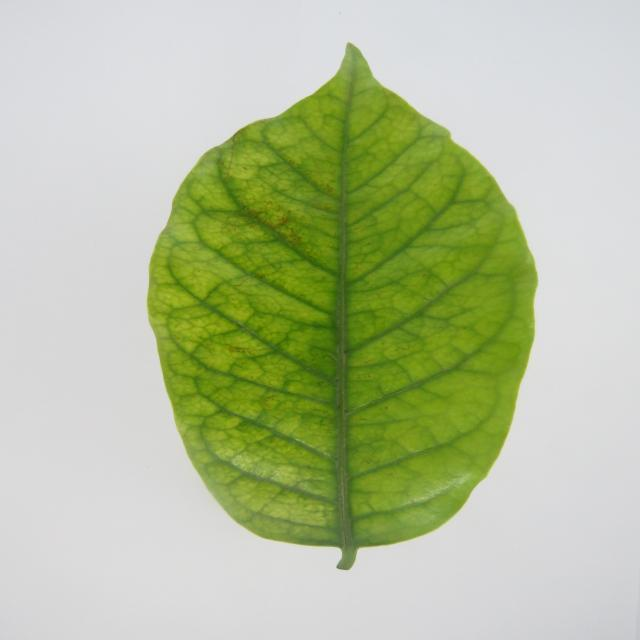DeficienciaNutricional-Magnesio: (148, 45, 537, 569)
